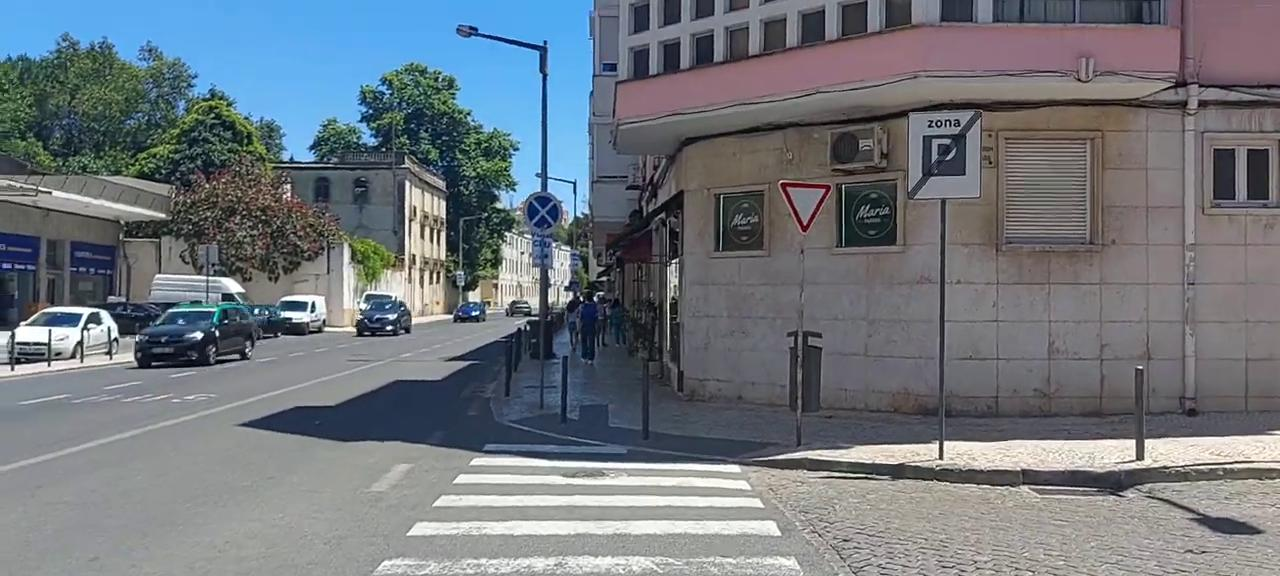cedencia de passagem: (777, 152, 856, 240)
fim de zona de estacionamento autorizado: (905, 106, 986, 204)
paragem e estacionamento proibido: (524, 188, 566, 236)
